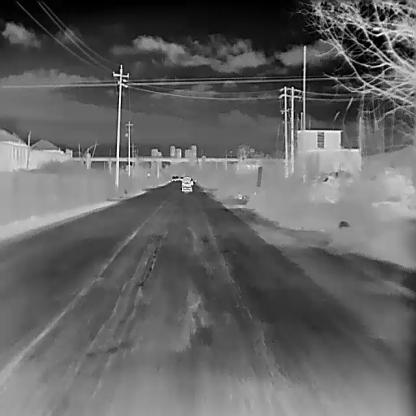car: (181, 175, 192, 191), (174, 175, 179, 180), (171, 175, 176, 180)
